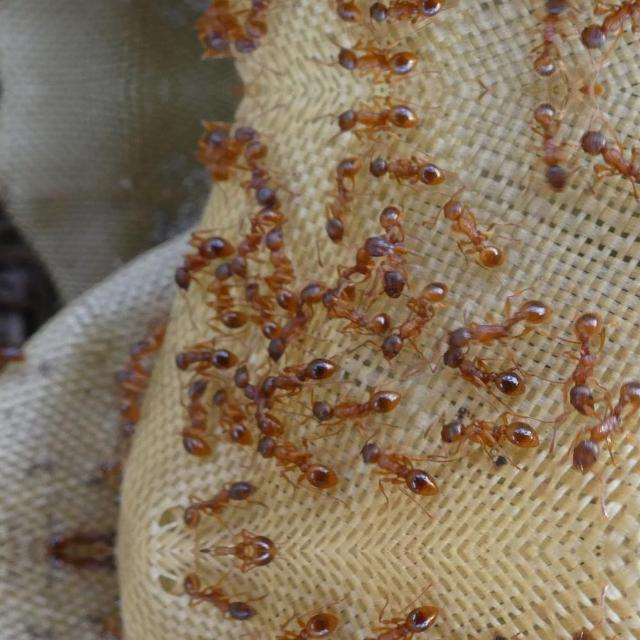Myrmica: (420, 402, 556, 470), (561, 371, 639, 481), (428, 179, 514, 277), (445, 282, 563, 346), (384, 270, 464, 364), (429, 340, 543, 400), (348, 445, 442, 507), (306, 139, 362, 243), (562, 296, 612, 404), (330, 89, 434, 140), (330, 39, 434, 90), (260, 275, 320, 361), (167, 467, 259, 523), (167, 577, 259, 633), (377, 192, 425, 298), (514, 106, 570, 192), (232, 349, 286, 438), (161, 222, 227, 292), (346, 592, 442, 640), (576, 120, 640, 190), (260, 428, 328, 492), (316, 378, 406, 426), (514, 0, 570, 72), (184, 121, 242, 189), (261, 348, 339, 396), (184, 372, 226, 458), (576, 0, 638, 58), (206, 372, 252, 448), (328, 224, 380, 290), (266, 220, 310, 298), (377, 136, 448, 182), (184, 0, 242, 56), (321, 286, 385, 334), (220, 201, 286, 247), (247, 136, 289, 206), (376, 0, 446, 42), (208, 259, 246, 335), (165, 334, 235, 370), (184, 526, 288, 550), (184, 550, 288, 574), (260, 606, 328, 640), (306, 0, 362, 38), (247, 0, 289, 42), (230, 116, 258, 166), (230, 12, 258, 62)
